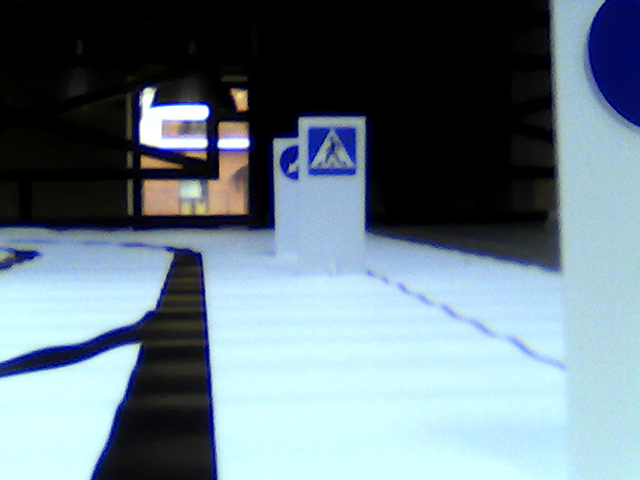pesh: (308, 125, 355, 174)
